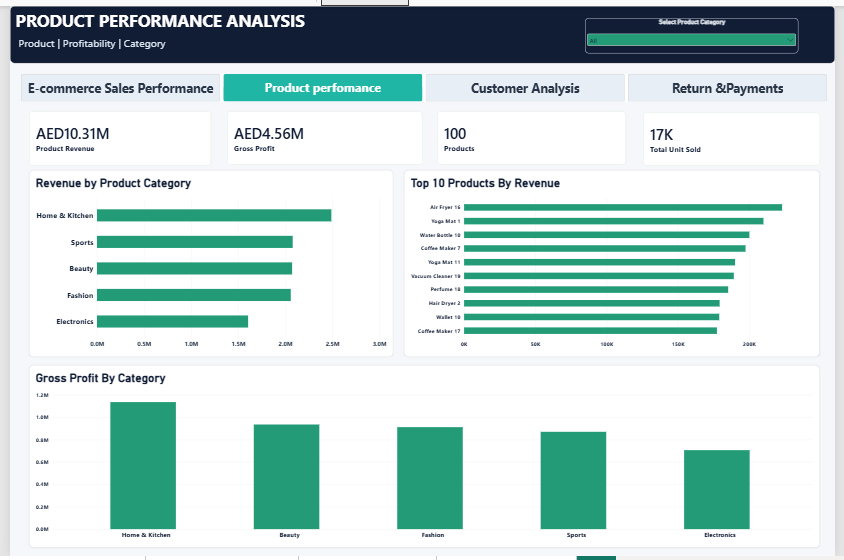

The page's visual inventory and layout, read from the dashboard file:
{"tool":"powerbi","page":{"name":"Product perfomance","canvas":[2100,1400],"ordinal":1},"visuals":[{"type":"textbox","box":[0,0,2100,145.6],"z":0},{"type":"cardVisual","fields":{"Data":["products.product_profit"]},"box":[551.6,266,498.4,137.2],"z":1000},{"type":"cardVisual","fields":{"Data":["products.Product_revenue"]},"box":[47.6,266,464.8,140],"z":2000},{"type":"cardVisual","fields":{"Data":["products.Total_product_sold"]},"box":[1086.4,266,481.6,137.2],"z":3000},{"type":"cardVisual","fields":{"Data":["products.Total Unit Sold"]},"box":[1610,268.8,450.8,137.2],"z":4000},{"type":"clusteredBarChart","title":"Revenue by Product Category","fields":{"Category":["products.category"],"Y":["products.Product_revenue"]},"box":[47.6,417.2,926.8,476],"z":5000},{"type":"clusteredBarChart","title":"Top 10 Products By Revenue","fields":{"Category":["products.product_name"],"Y":["products.Product_revenue"]},"box":[1002.4,417.2,1058.4,476],"z":6000},{"type":"clusteredColumnChart","title":"Gross Profit By Category","fields":{"Category":["products.category"],"Y":["products.product_profit"]},"box":[47.6,912.8,2013.2,464.8],"z":7000},{"type":"slicer","title":"Select Product Category","fields":{"Values":["products.category"]},"box":[1464.4,30.8,543.2,89.6],"z":8000},{"type":"pageNavigator","box":[28,173.6,2052,70],"z":8001}]}

Visuals, with their boxes in screenshot pixels (x1, y1, x2, y2), scaled from the page's 2100x1400 canvas onto the 844x560 screenshot:
textbox: bbox=[0, 0, 843, 58]
cardVisual - products.product_profit: bbox=[222, 106, 422, 161]
cardVisual - products.Product_revenue: bbox=[19, 106, 206, 162]
cardVisual - products.Total_product_sold: bbox=[437, 106, 630, 161]
cardVisual - products.Total Unit Sold: bbox=[647, 108, 828, 162]
"Revenue by Product Category" clusteredBarChart: bbox=[19, 167, 392, 357]
"Top 10 Products By Revenue" clusteredBarChart: bbox=[403, 167, 828, 357]
"Gross Profit By Category" clusteredColumnChart: bbox=[19, 365, 828, 551]
"Select Product Category" slicer: bbox=[589, 12, 807, 48]
pageNavigator: bbox=[11, 69, 836, 97]
